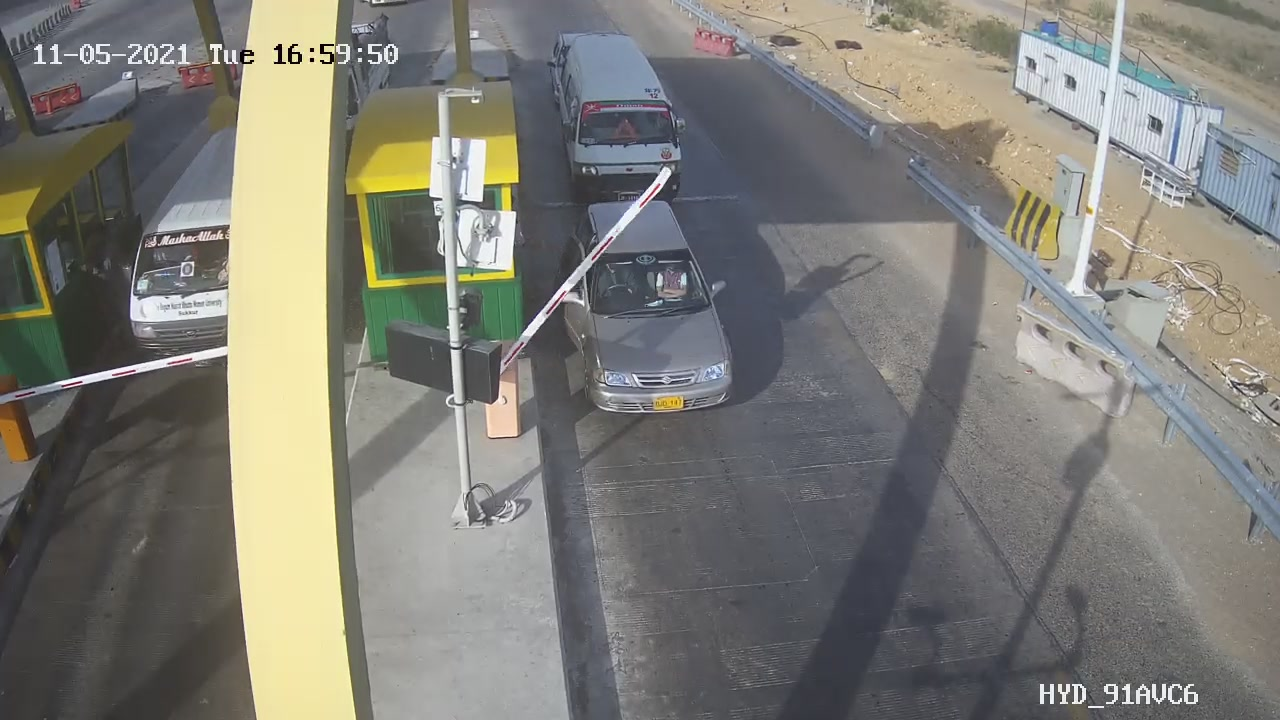F1: (542, 188, 764, 433)
F2: (537, 41, 693, 201)
